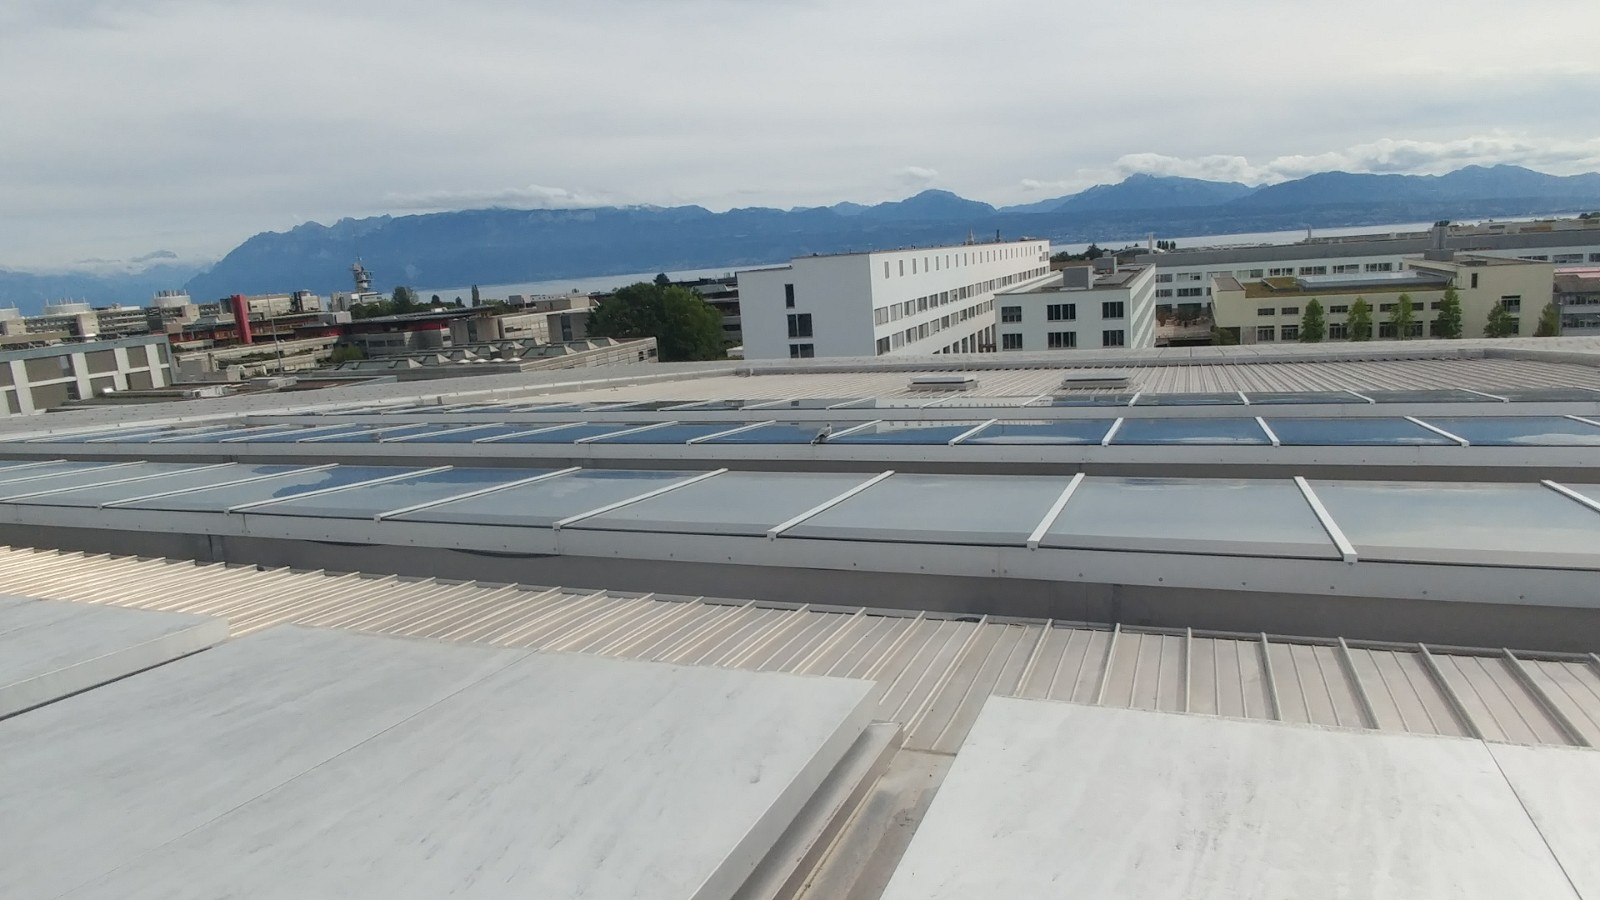Pigeon: (805, 421, 835, 448)
